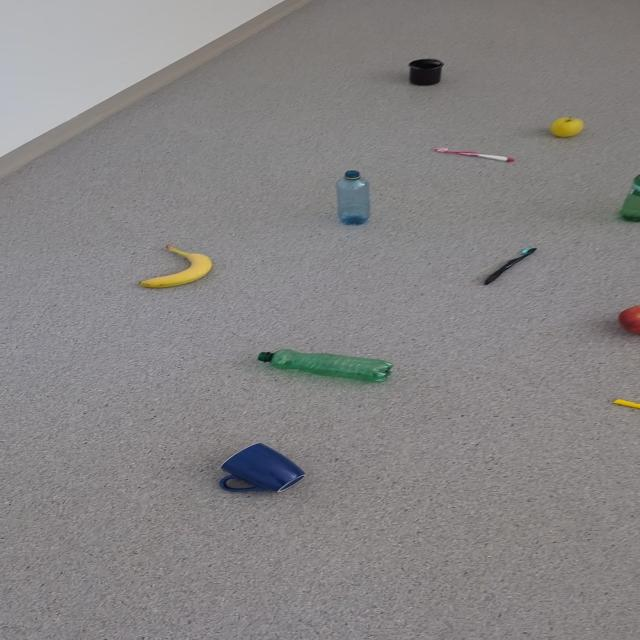apple: (549, 117, 584, 137), (618, 305, 640, 335)
banana: (138, 244, 213, 288)
bottle: (256, 348, 393, 383), (336, 170, 370, 225), (616, 174, 640, 223)
mug: (217, 442, 306, 493), (408, 58, 444, 85)
toothbrush: (484, 248, 542, 284), (433, 147, 515, 162), (611, 399, 640, 410)
